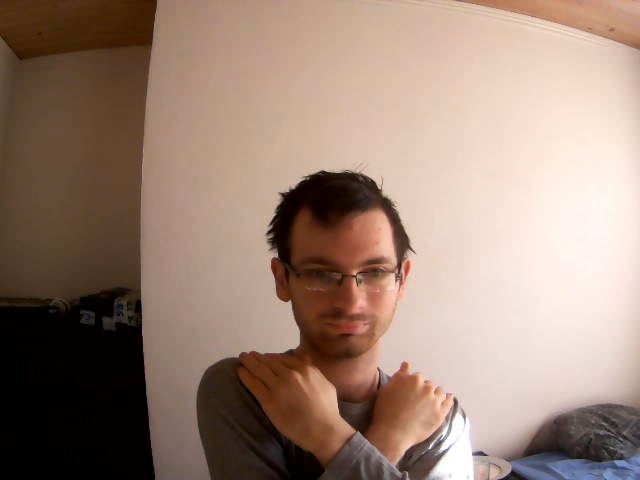butterfly: (230, 341, 459, 466)
